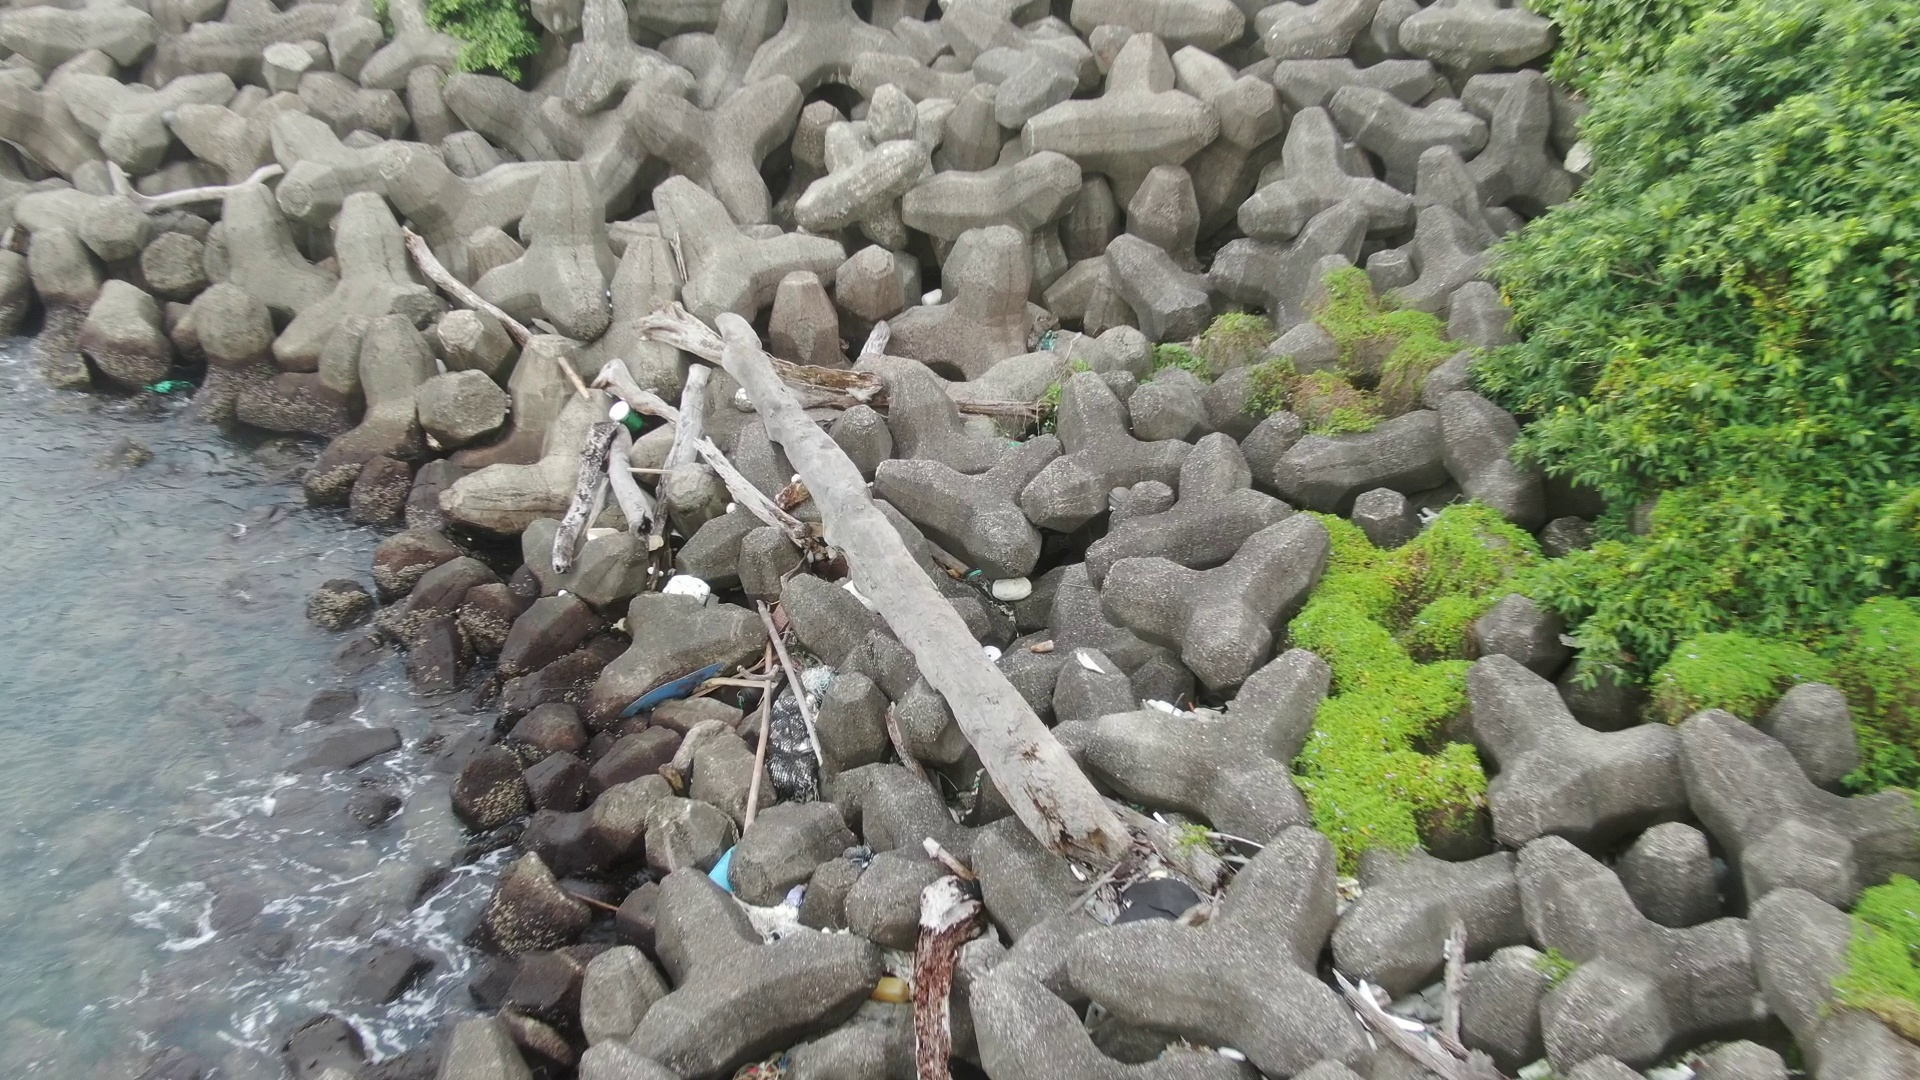garbage: (745, 654, 852, 806), (705, 843, 811, 945), (616, 645, 741, 724), (607, 385, 655, 438), (651, 563, 712, 604), (992, 570, 1050, 611), (868, 969, 920, 1004), (141, 375, 204, 401)
